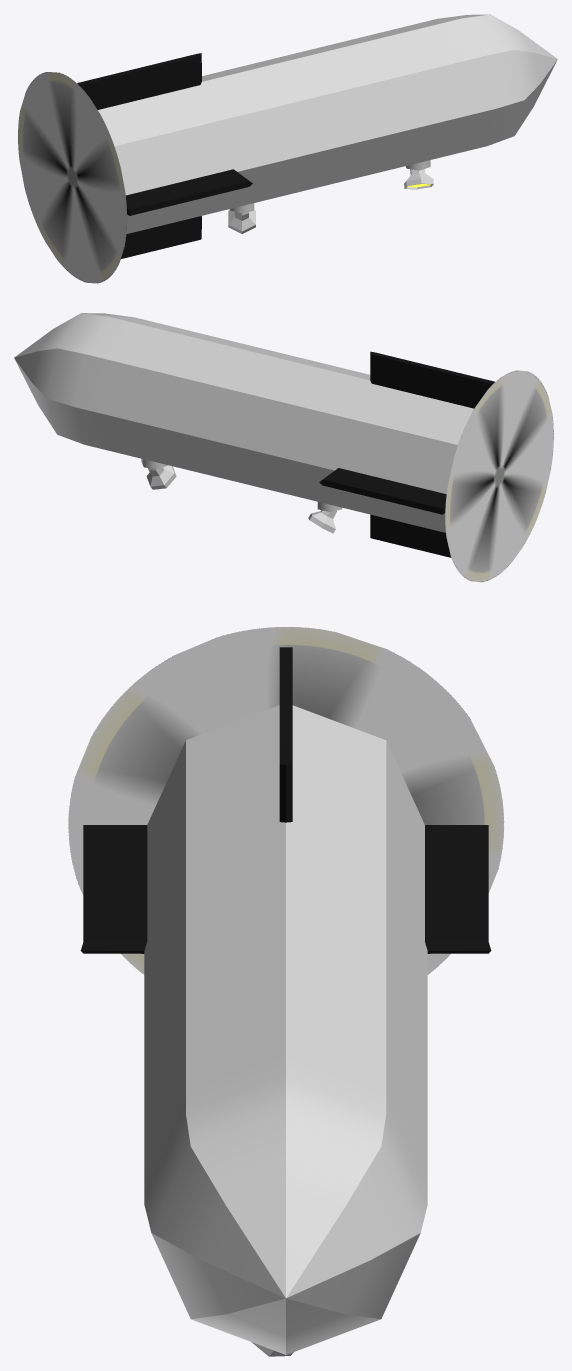
The model's file is Big airship 1.fbx.
3 renders of one model, top to bottom at view 1: azimuth 30°, elevation 25°; view 2: azimuth 150°, elevation 25°; view 3: azimuth 270°, elevation 25°, orthographic. The views are drawn at different scales.
Parts seen in each view (by area): view 1: Big Airship1, Airship Propeller, Spotlight, Spotlight001; view 2: Big Airship1, Airship Propeller, Spotlight001, Spotlight; view 3: Big Airship1, Airship Propeller.
Boxes of the visible parts, x1,y1,x2,y2 form: Big Airship1: (77, 14, 557, 258); Airship Propeller: (18, 72, 127, 283); Spotlight: (228, 203, 255, 233); Spotlight001: (404, 160, 433, 189); Big Airship1: (14, 313, 494, 557); Airship Propeller: (445, 370, 553, 582); Spotlight001: (141, 458, 176, 489); Spotlight: (308, 502, 342, 533); Big Airship1: (80, 647, 491, 1354); Airship Propeller: (68, 627, 504, 974).
Size of the model in its own units: 317 by 132 by 132.
Materials: 4 (1 with a texture image).
